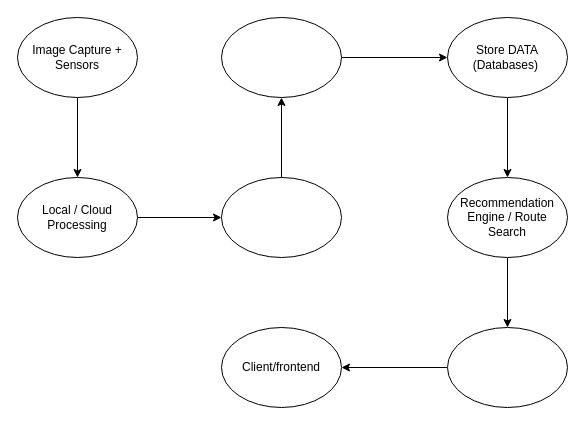
Some shapes in this 585 by 425 pixel diagram are drawn without their labels. Each missing label, with the box of its shape:
Image DATA classification (graphics/text): (220, 16, 342, 98)
Image processing AI, OCR...: (220, 176, 342, 258)
RESTful API: (446, 326, 568, 408)
